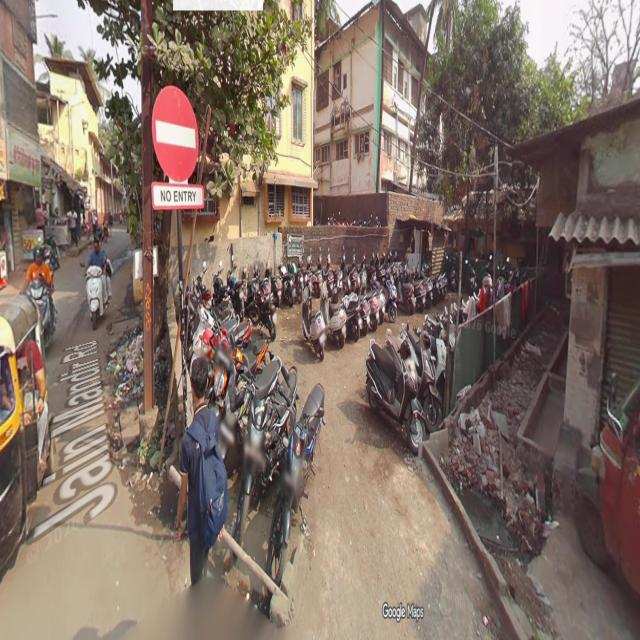Legalparking: (183, 252, 524, 606)
